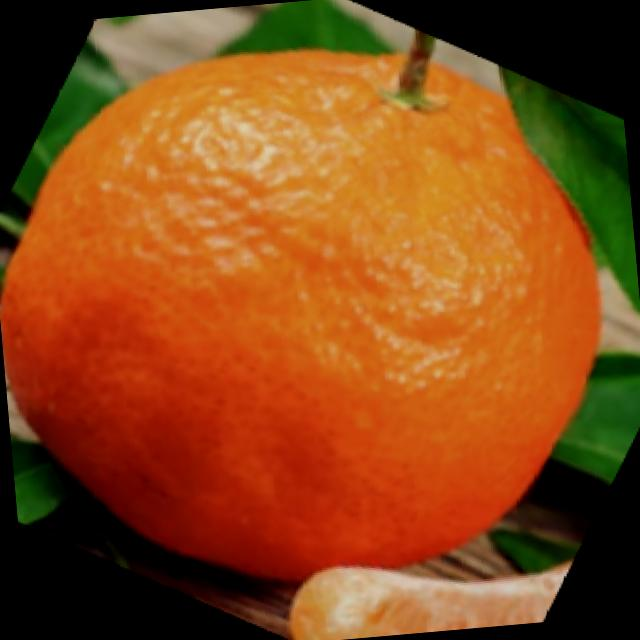orange: (0, 21, 606, 616)
